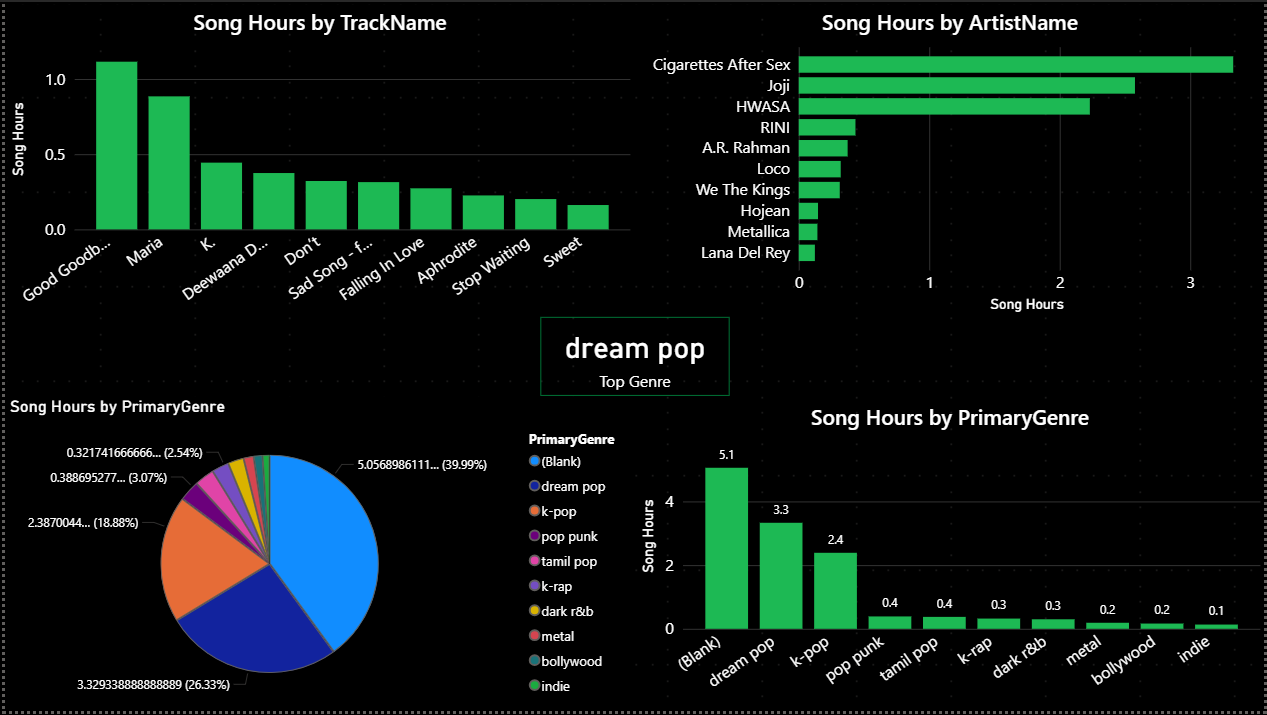

This screenshot's page, from the dashboard's own definition file:
{"tool":"powerbi","page":{"name":"Content Insights","canvas":[1280,720],"ordinal":1},"visuals":[{"type":"card","fields":{"Values":["SpotifyListeningHistory.Top Genre"]},"box":[544,320,192,80],"z":0},{"type":"clusteredColumnChart","fields":{"Category":["SpotifyListeningHistory.TrackName"],"Y":["SpotifyListeningHistory.Song Hours"]},"box":[0,0,640,320],"z":1000},{"type":"clusteredBarChart","fields":{"Category":["SpotifyListeningHistory.ArtistName"],"Y":["SpotifyListeningHistory.Song Hours"]},"box":[640,0,640,320],"z":2000},{"type":"pieChart","fields":{"Category":["SpotifyListeningHistory.PrimaryGenre"],"Y":["SpotifyListeningHistory.Song Hours"]},"box":[0,400,640,320],"z":3000},{"type":"clusteredColumnChart","fields":{"Category":["SpotifyListeningHistory.PrimaryGenre"],"Y":["SpotifyListeningHistory.Song Hours"]},"box":[640,400,640,320],"z":4000}]}

Visuals, with their boxes in screenshot pixels (x1, y1, x2, y2), scaled from the page's 1280x720 canvas onto the 1267x715 screenshot:
card - SpotifyListeningHistory.Top Genre: select_region(538, 318, 729, 397)
clusteredColumnChart - SpotifyListeningHistory.TrackName x SpotifyListeningHistory.Song Hours: select_region(0, 0, 634, 318)
clusteredBarChart - SpotifyListeningHistory.ArtistName x SpotifyListeningHistory.Song Hours: select_region(634, 0, 1266, 318)
pieChart - SpotifyListeningHistory.PrimaryGenre x SpotifyListeningHistory.Song Hours: select_region(0, 397, 634, 714)
clusteredColumnChart - SpotifyListeningHistory.PrimaryGenre x SpotifyListeningHistory.Song Hours: select_region(634, 397, 1266, 714)
